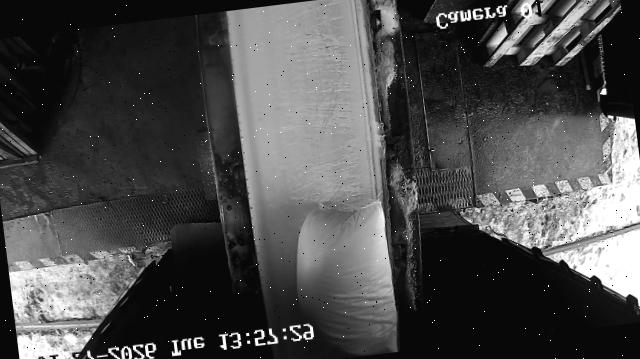bag: (286, 197, 401, 359)
